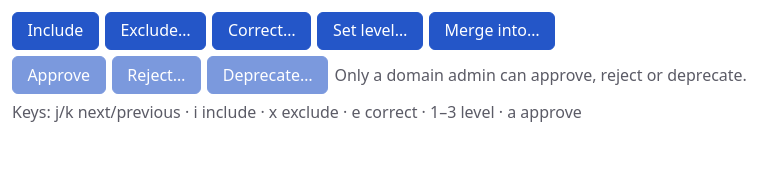
Scenario: Actions › refusal_is_shown_with_the_server_message
The width and height of the screenshot is (763, 172).
Click the button "Include" at [55, 31], box [12,12,99,50]
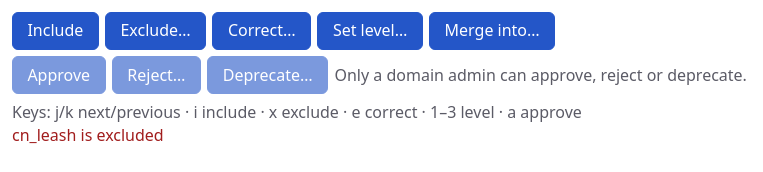
Expected: the message reads "cn_leash is excluded", [12,124,164,146]
